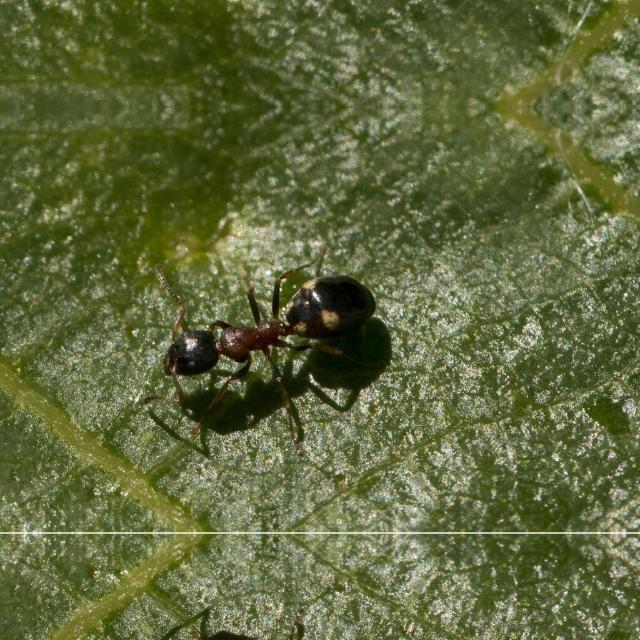Dolichoderus: (130, 246, 406, 402)
